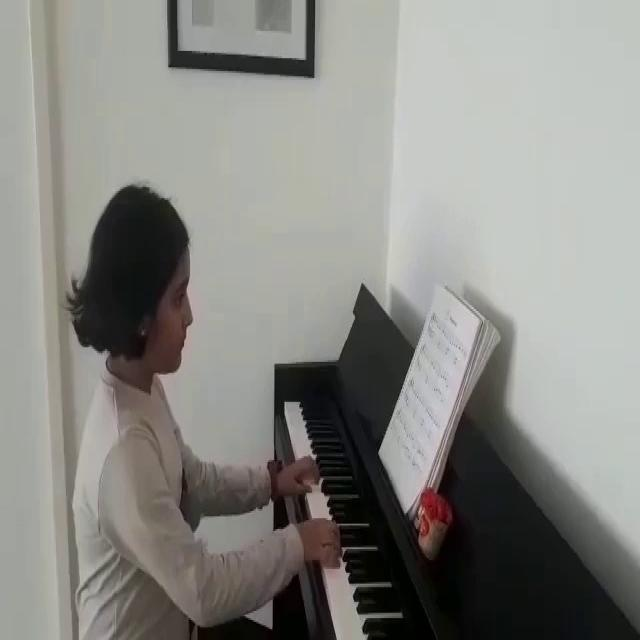Kamanche: (277, 377, 444, 640)
